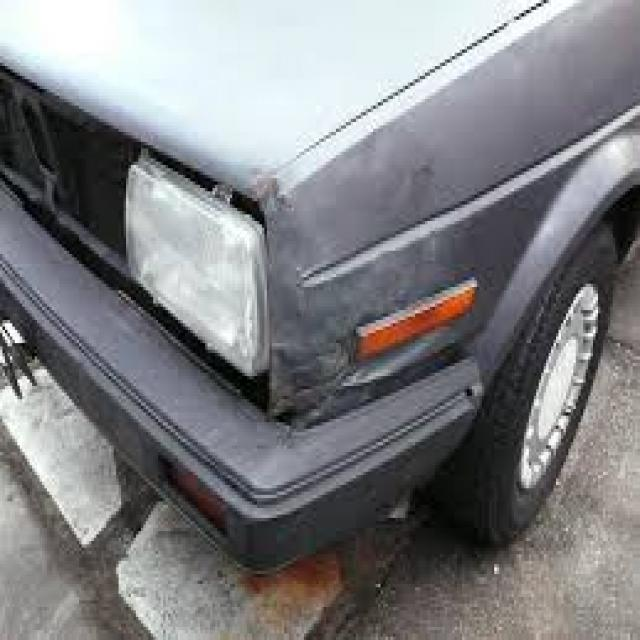moderate: (205, 249, 442, 511)
